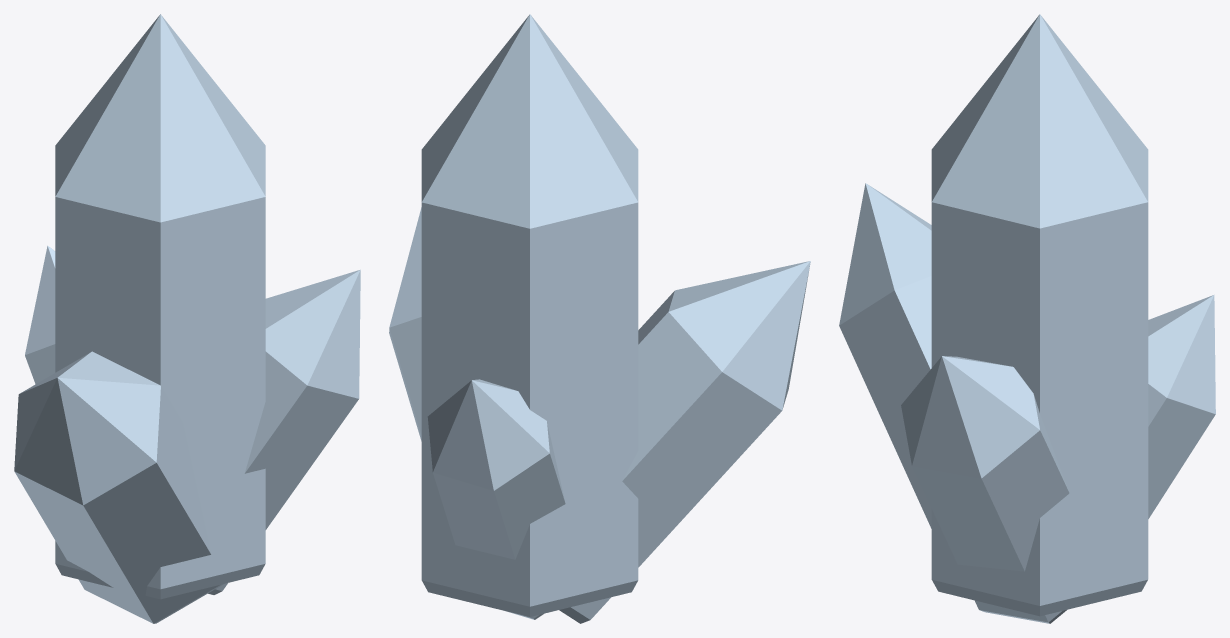
Rendered from celestite.glb.
The picture shows the model from 3 angles, left to right: view 1: azimuth 30°, elevation 25°; view 2: azimuth 150°, elevation 25°; view 3: azimuth 270°, elevation 25°; orthographic projection. The views are drawn at different scales.
Parts seen in each view (by area): view 1: celestite; view 2: celestite; view 3: celestite.
Part boxes in pixels (<box>): celestite: <box>14,14,360,623</box>; celestite: <box>389,14,810,623</box>; celestite: <box>839,14,1215,623</box>.
Size of the model in its own units: 0.1616 by 0.25 by 0.1421.
